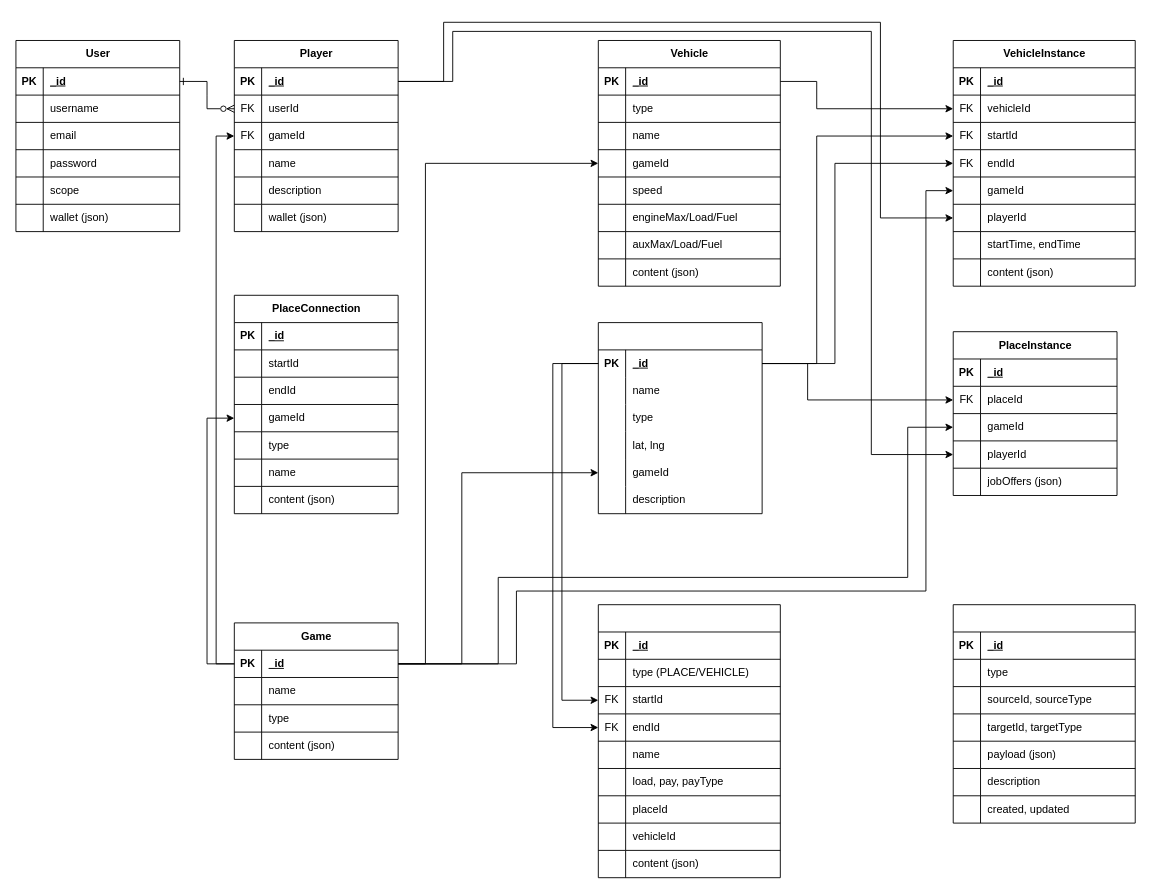
Image size: 1151x894. Some labels were removed from this diagram. The box of each missing label's shape, as (x1, y1, x2, y2) in pixels:
Job: (597, 604, 780, 878)
Place: (597, 322, 762, 514)
Transaction: (952, 604, 1135, 823)
